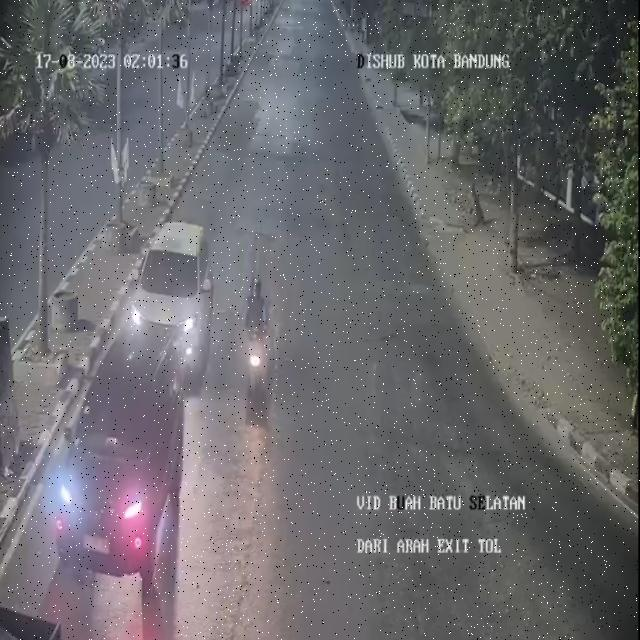cars: (49, 321, 189, 567), (126, 220, 214, 376)
motorcycle: (240, 276, 276, 413)
